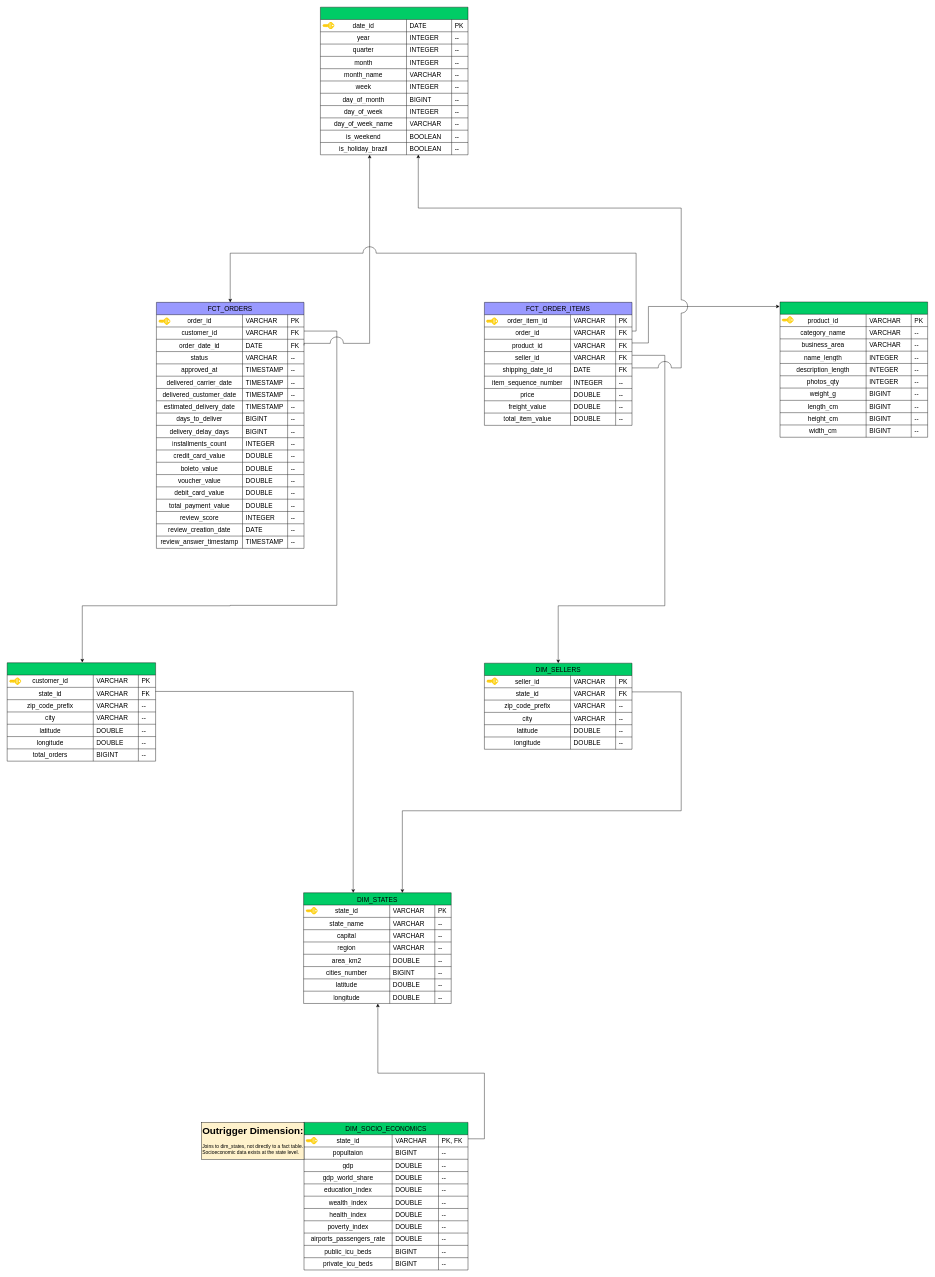
This 935x1277 diagram has some shape labels left out. The shapes that lost their labels are listed below. From the top down, each one's box as (x1, y1, x2, y2) in pixels, then its label:
(320, 7, 468, 155): DIM_DATE
(780, 302, 928, 437): DIM_PRODUCTS
(7, 662, 156, 761): DIM_CUSTOMERS
